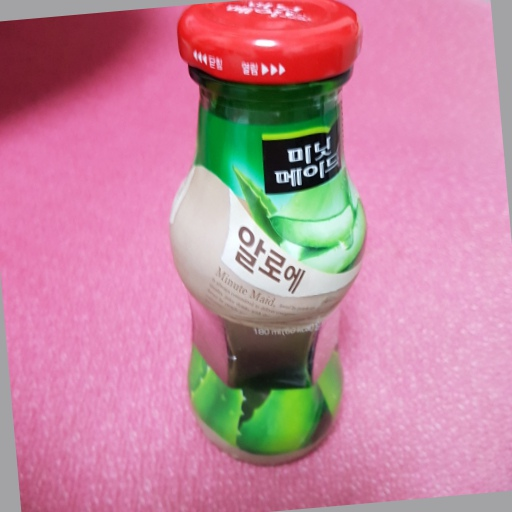Glass_4: (173, 2, 367, 462)
